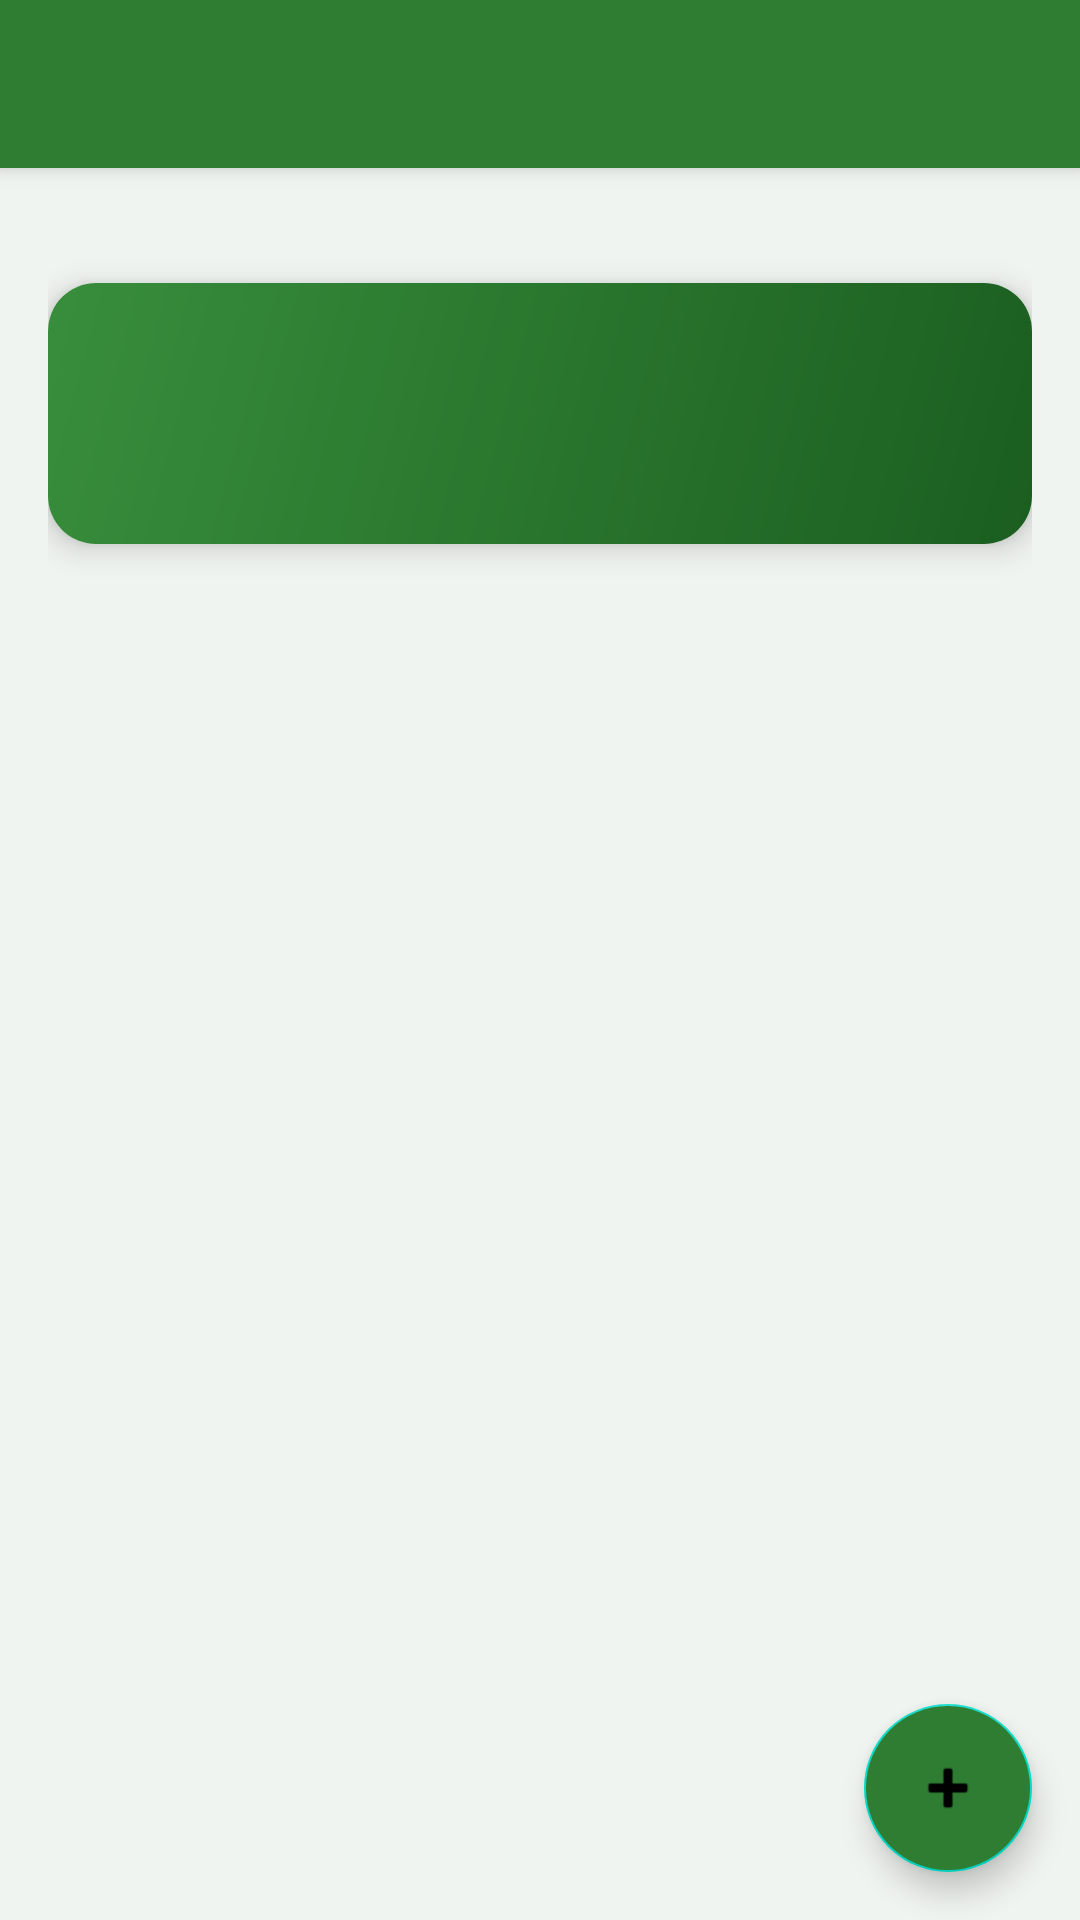

Icons on this 1080×1920 Android screen, each with the point to tap as (x=x, y=y):
Add Habit: (x=948, y=1788)
